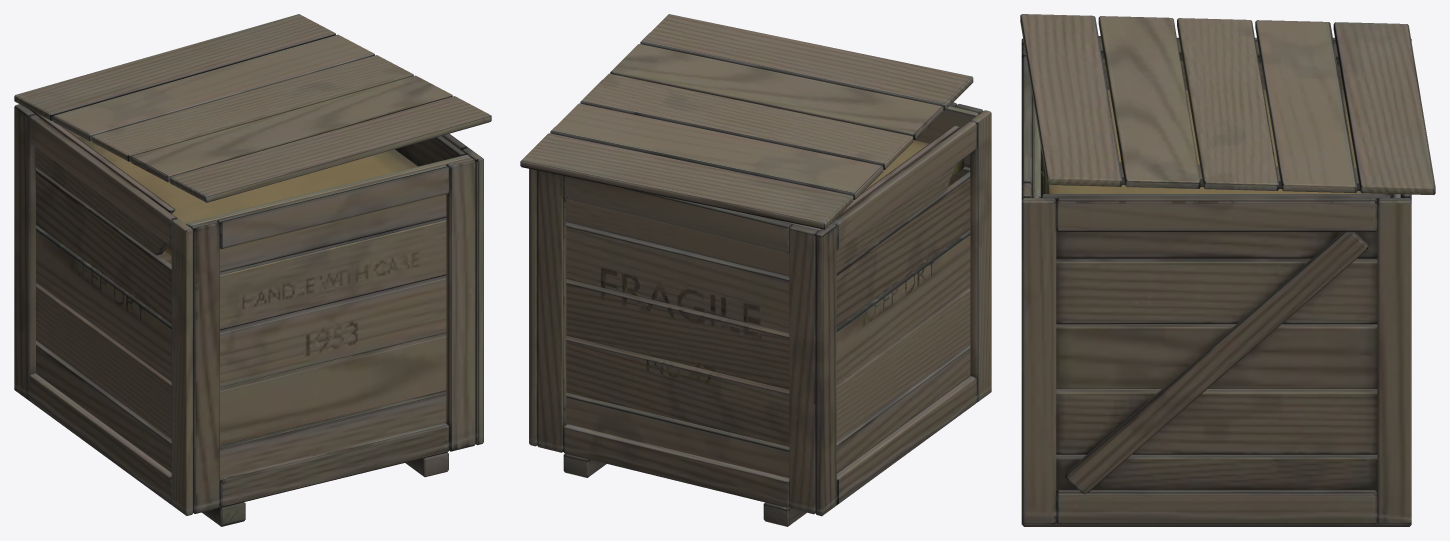
The model's file is furniture_crate.glb.
The picture shows the model from 3 angles, left to right: view 1: azimuth 30°, elevation 25°; view 2: azimuth 150°, elevation 25°; view 3: azimuth 270°, elevation 25°; orthographic projection. The views are drawn at different scales.
Visible parts, largest first — view 1: furniture_crate; view 2: furniture_crate; view 3: furniture_crate.
Boxes of the visible parts, bbox=[...] form: furniture_crate: bbox=[14, 14, 491, 526]; furniture_crate: bbox=[520, 14, 991, 526]; furniture_crate: bbox=[1020, 14, 1435, 526].
Bounding box in the file's own units: 0.8534 × 0.8593 × 0.8527.
1 material, 1 textured.
